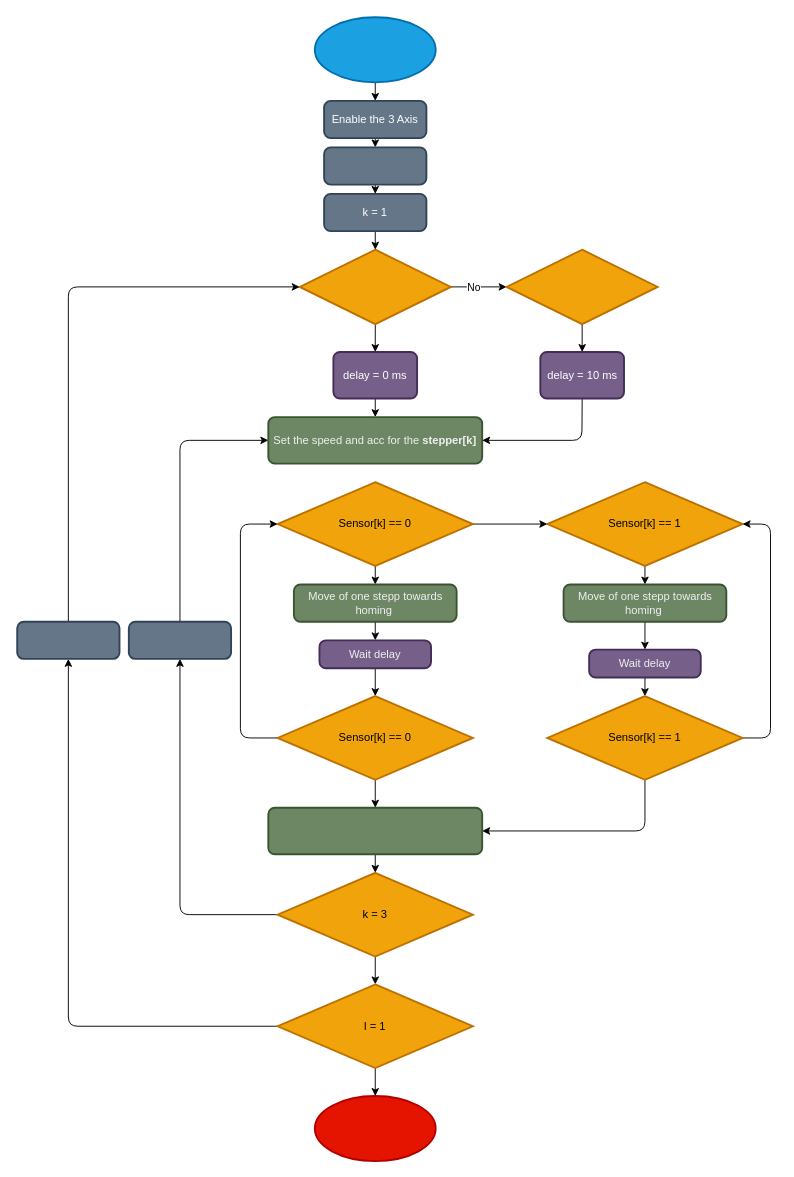
This 794x1177 diagram has some shape labels left out. Here are the shapes that lost their labels. From the top down, the centre of each, then its label:
At point 374,49: "Home()".
At point 375,165: "l = 0".
At point 374,286: "l=0".
At point 581,286: "l=1".
At point 68,639: "l++".
At point 179,639: "k ++".
At point 375,830: "Set current position of atepper[k] to 0".
At point 374,1128: "End".
